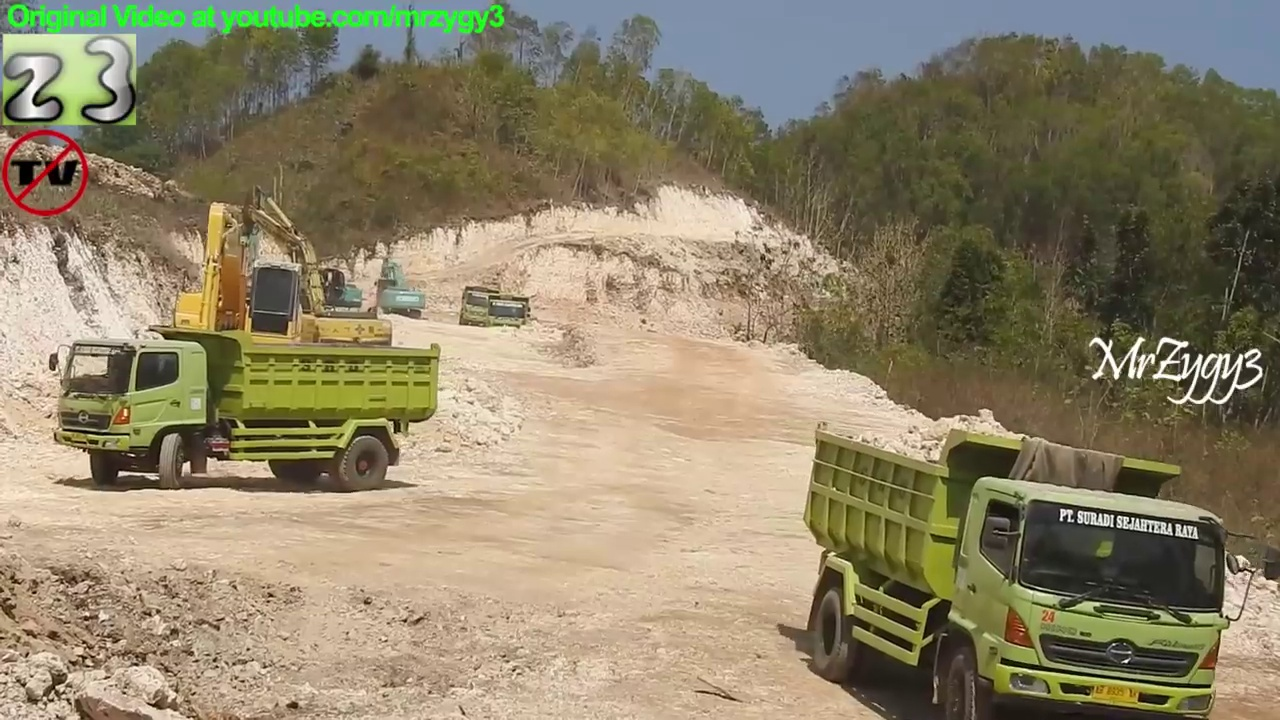excavator: (119, 199, 334, 423), (203, 185, 400, 383), (227, 210, 365, 336), (372, 255, 429, 326)
truck: (800, 419, 1260, 720), (47, 324, 441, 495), (486, 292, 533, 338), (458, 283, 503, 331)
